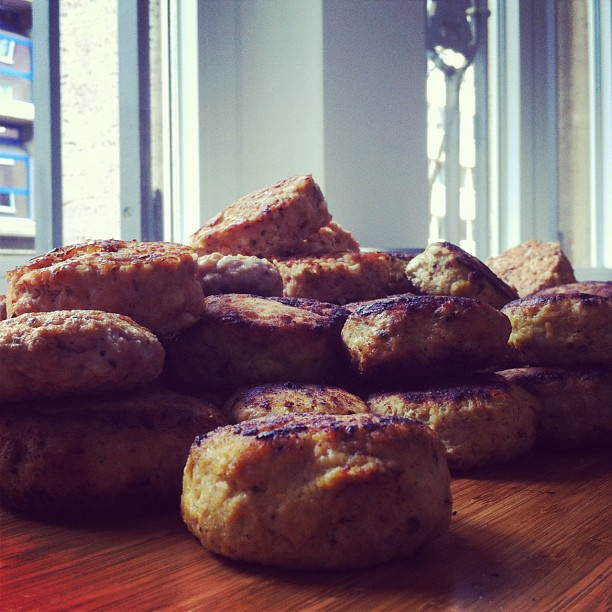meatballs: (188, 410, 443, 554), (13, 409, 183, 506), (11, 245, 193, 331), (201, 292, 351, 381), (8, 314, 169, 388), (349, 295, 497, 375), (372, 384, 525, 451), (183, 177, 324, 243), (517, 369, 612, 445), (508, 288, 604, 353), (216, 384, 372, 418), (301, 249, 399, 290)
